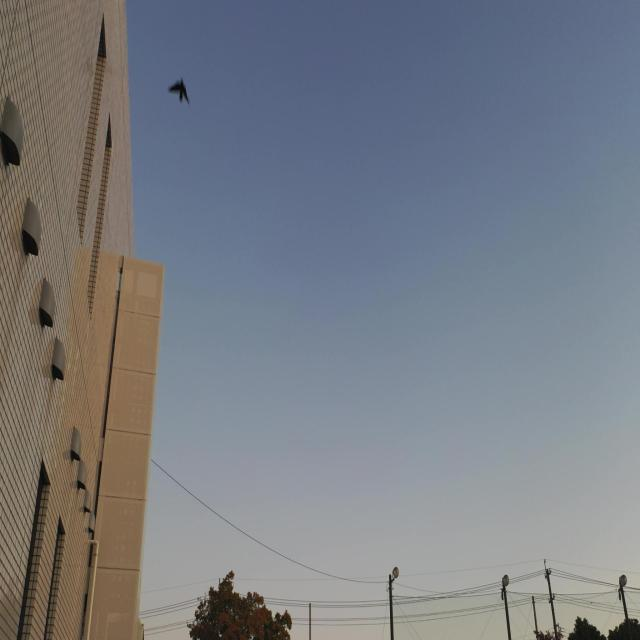Birds: (168, 70, 200, 101)
